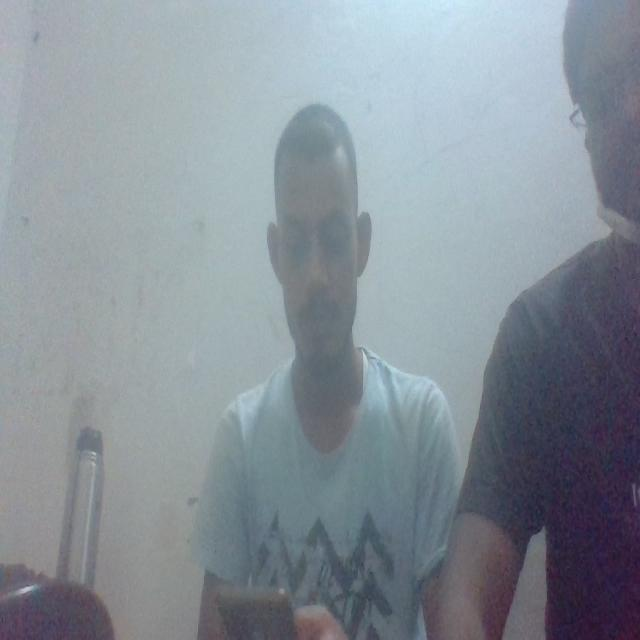Phone: (211, 584, 300, 640)
